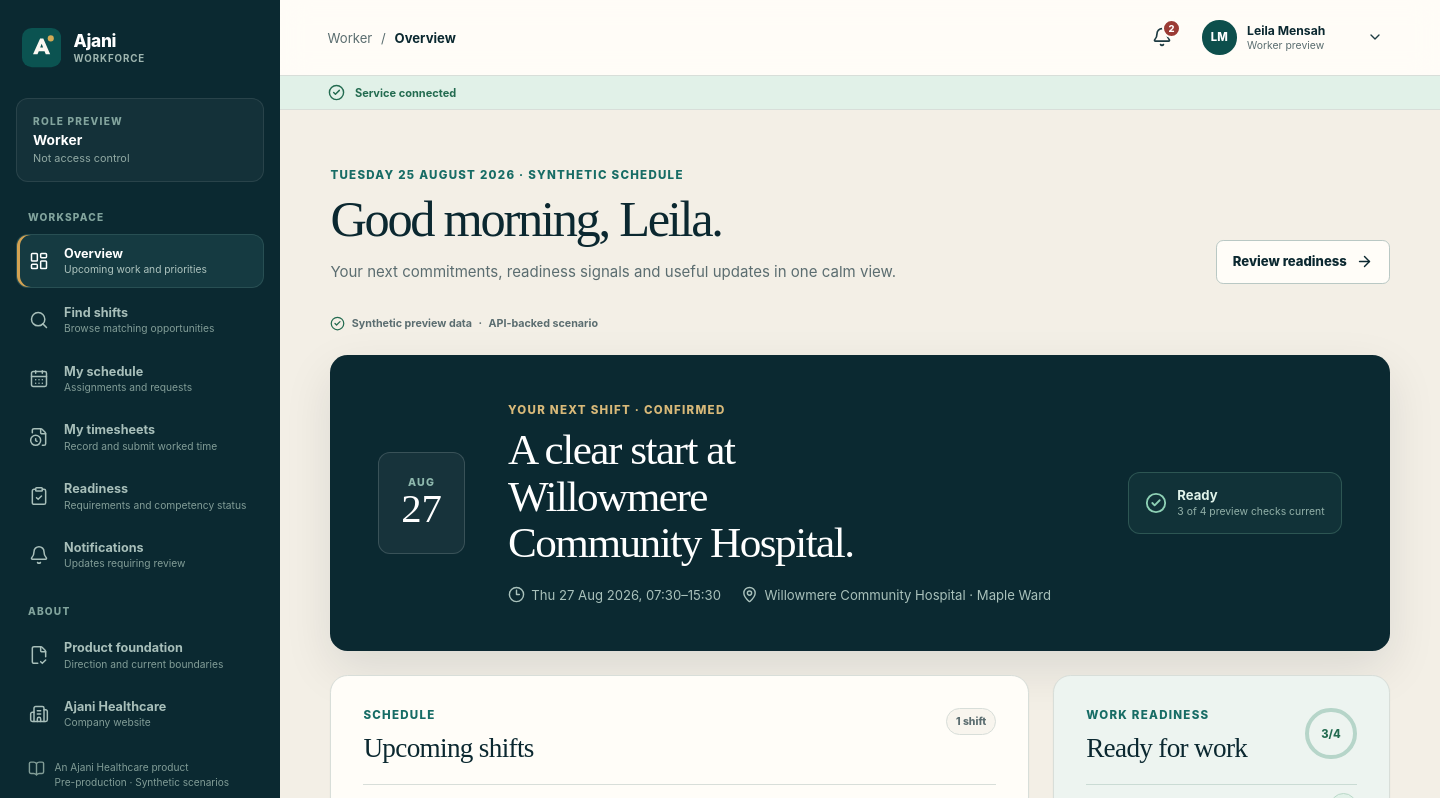
Test: Ajani application shell › changes product perspective without implying authentication
Click the button "LM Leila Mensah Worker preview": click(1292, 38) [1192,14,1392,61]
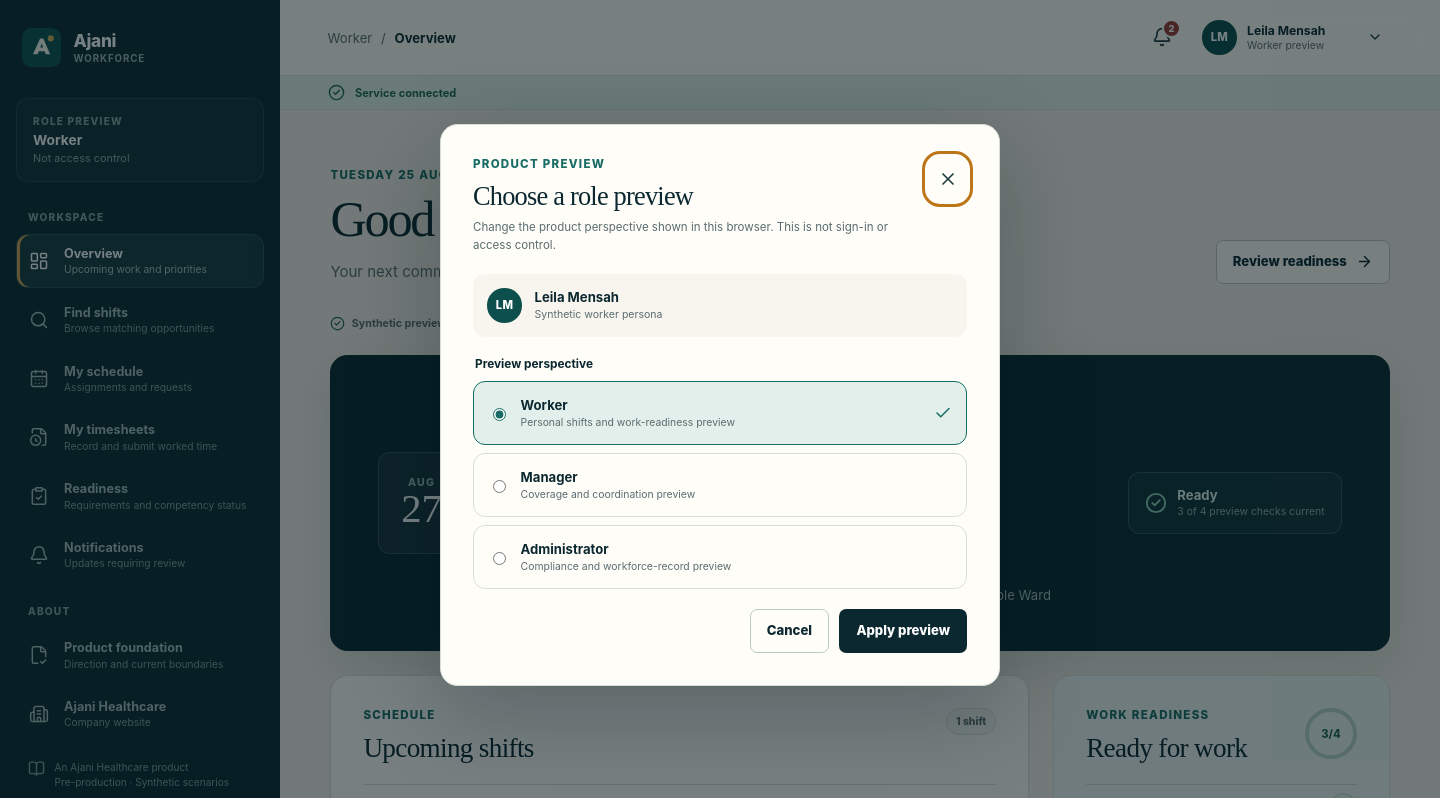
Check: the text "not sign-in or access control" is shown, box [473,220,888,252]
Click the radio button labelled "Manager Coverage and coordination preview": click(499, 487) [493,480,506,493]
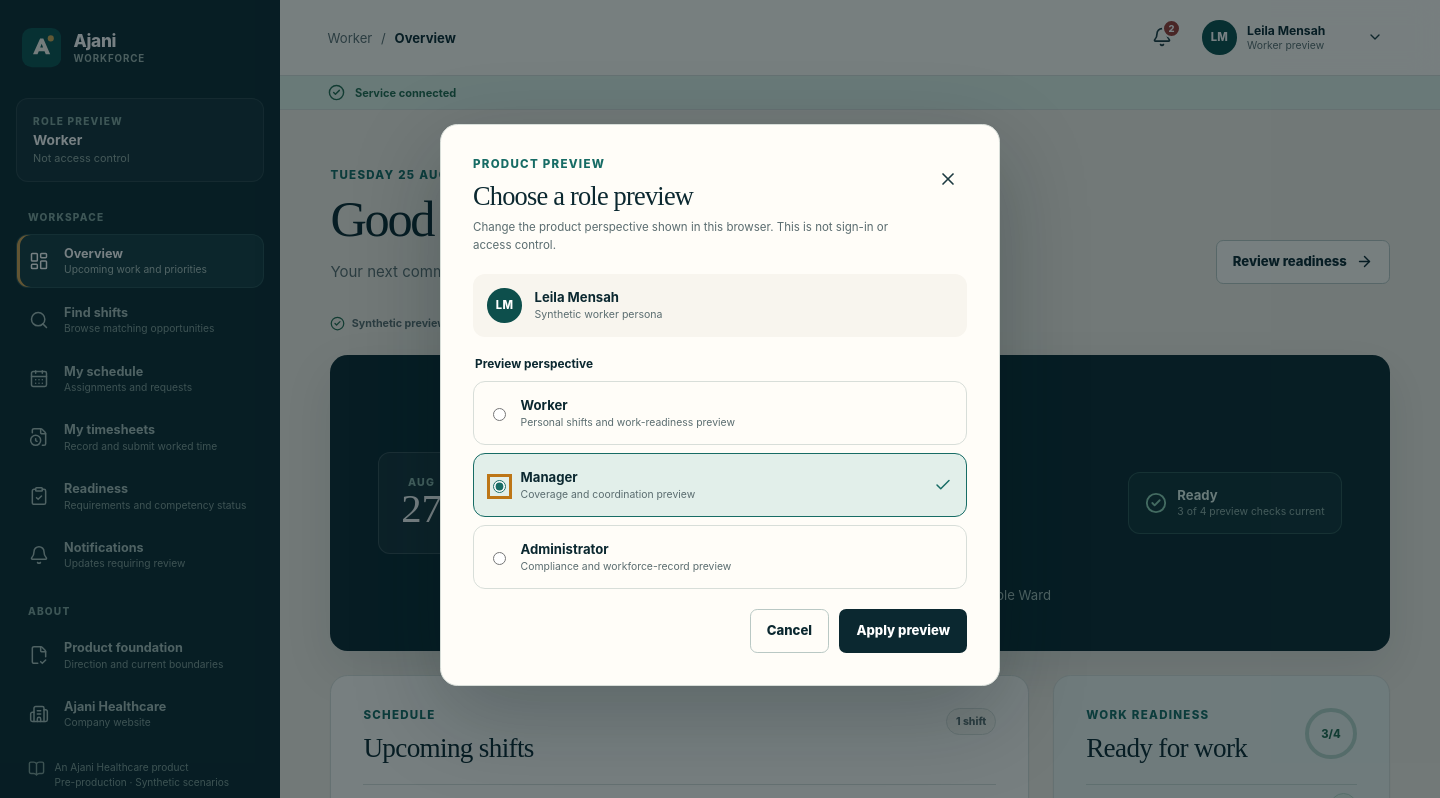
Click the button "Apply preview": click(903, 631) [839,609,967,653]
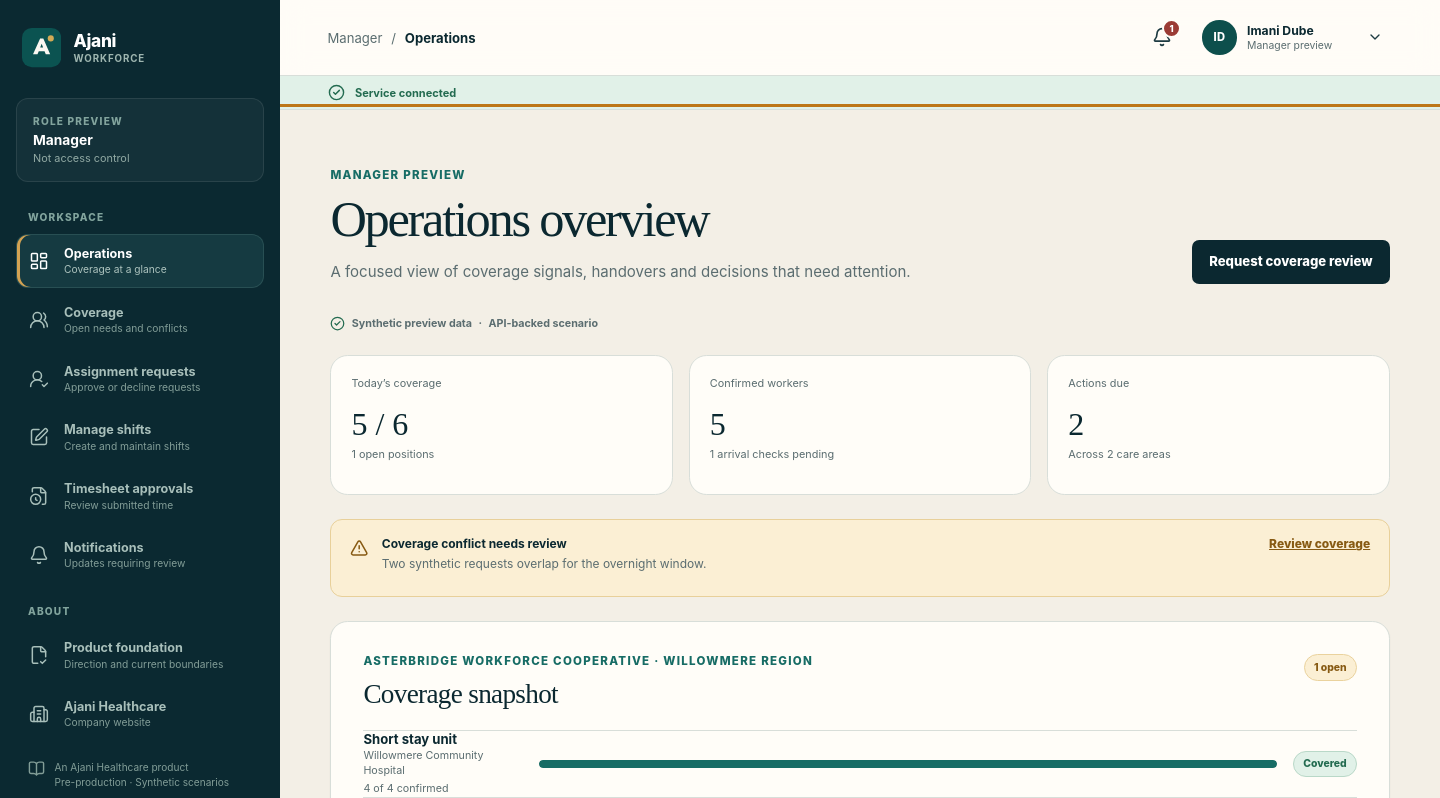
Check: the heading "Operations overview" is shown, box [330,191,708,247]
Check: the navigation bar named "manager preview navigation" is shown, box [16,198,264,741]
